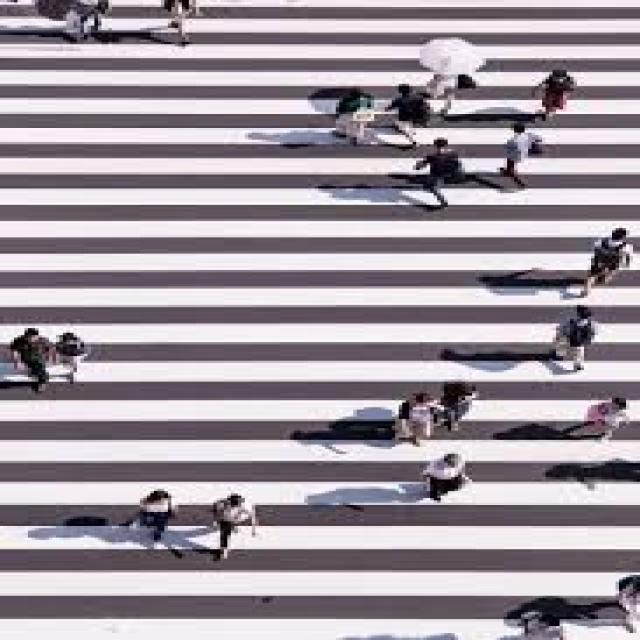Pedestrians: (206, 491, 262, 566), (416, 135, 469, 214), (546, 305, 602, 372), (577, 226, 633, 293), (119, 482, 171, 547), (388, 393, 444, 449), (493, 124, 542, 188), (413, 452, 472, 505), (528, 68, 584, 121), (385, 79, 430, 144), (46, 2, 108, 49), (7, 326, 49, 393), (430, 52, 472, 116), (157, 2, 210, 49), (332, 86, 371, 144), (581, 393, 626, 440), (437, 379, 472, 433), (52, 331, 84, 386)
